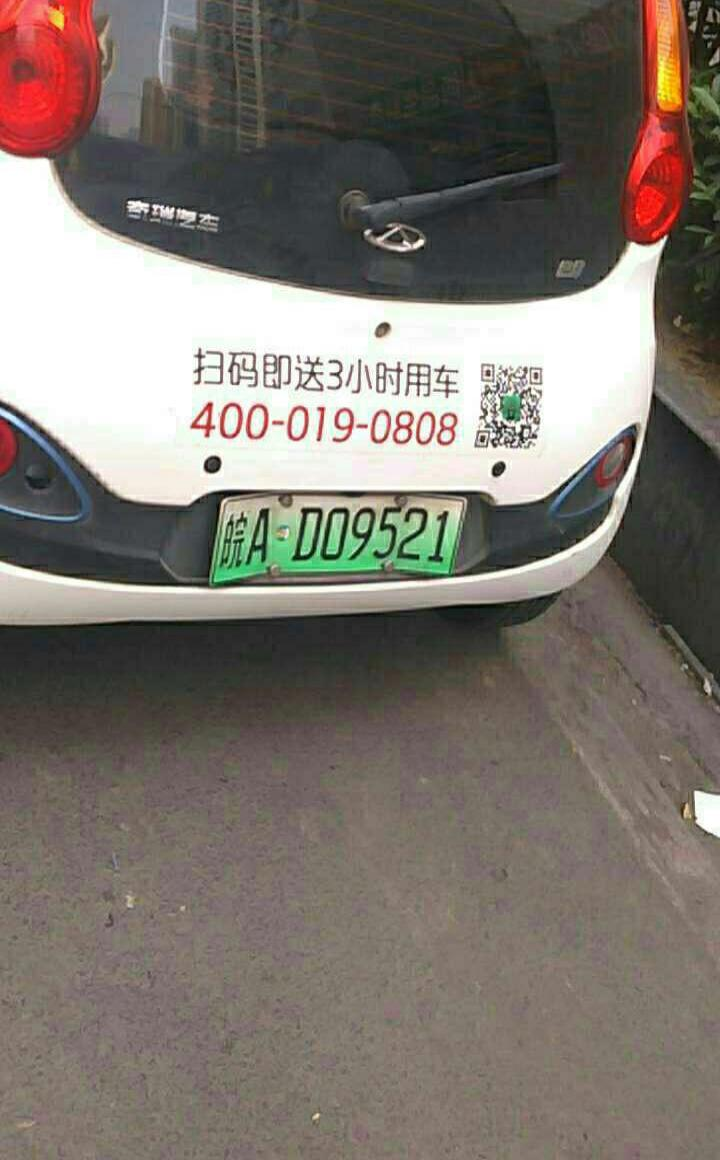car: (213, 490, 478, 589)
